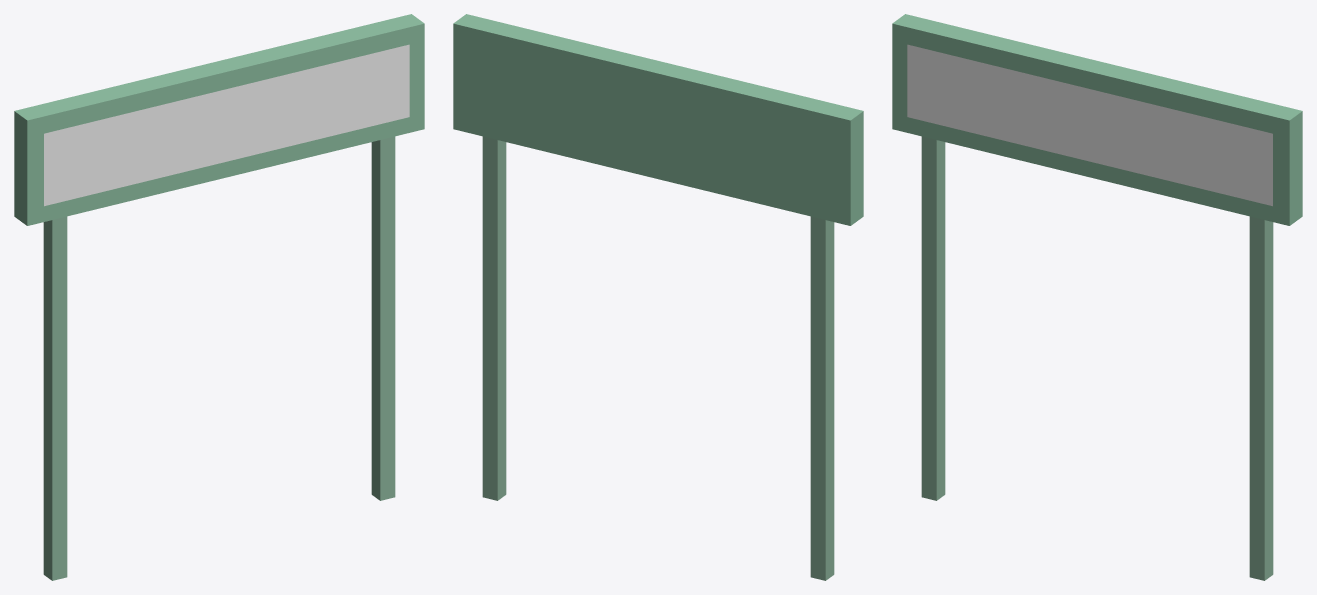
File: pang-cannon-sign.glb
3 renders of one model, left to right at view 1: azimuth 30°, elevation 25°; view 2: azimuth 150°, elevation 25°; view 3: azimuth 330°, elevation 25°, orthographic.
Parts seen in each view (by area): view 1: Sign_pangCannon, Sign frame, Sign post (×2); view 2: Sign frame, Sign post (×2); view 3: Sign_pangCannon, Sign frame, Sign post (×2).
Boxes of the visible parts, x1,y1,x2,y2 form: Sign_pangCannon: (44, 44, 409, 206); Sign frame: (14, 14, 424, 225); Sign post (×2): (43, 136, 395, 580); Sign frame: (453, 14, 863, 225); Sign post (×2): (482, 136, 834, 580); Sign_pangCannon: (907, 44, 1272, 206); Sign frame: (892, 14, 1302, 225); Sign post (×2): (921, 136, 1273, 580).
Size of the model in its own units: 3.15 by 3.55 by 0.19.
